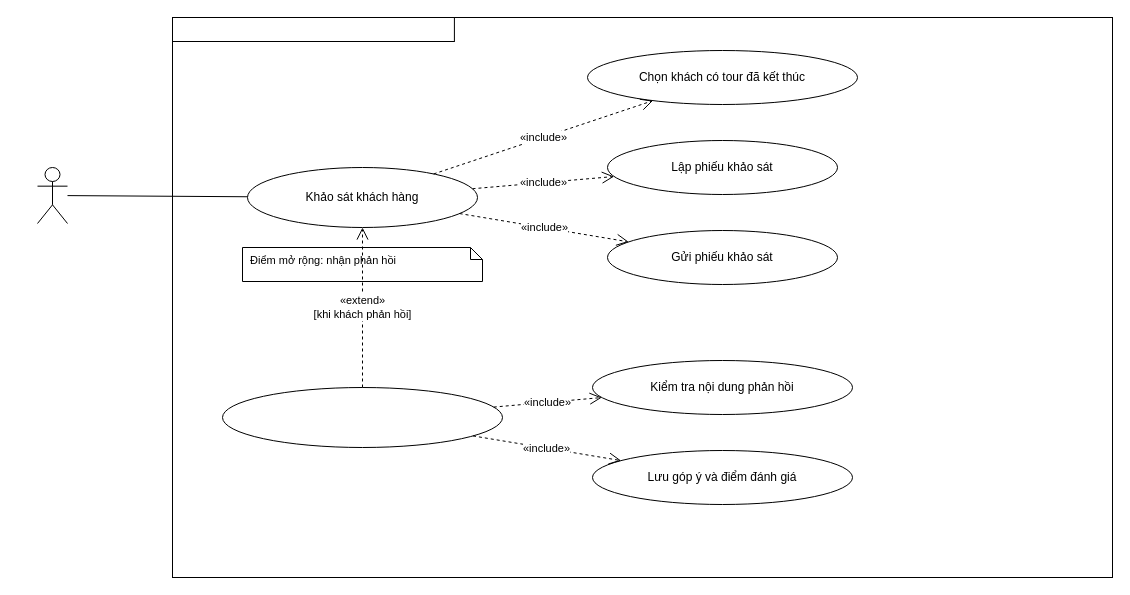
Image size: 1130x595. Some labels were removed from this diagram. Each missing label, with the box of its shape:
Ghi nhận phản hồi của khách hàng: (222, 386, 502, 448)
NV chăm sóc khách hàng: (36, 166, 68, 224)
Phân rã Use Case Khảo sát khách hàng: (172, 16, 454, 42)
